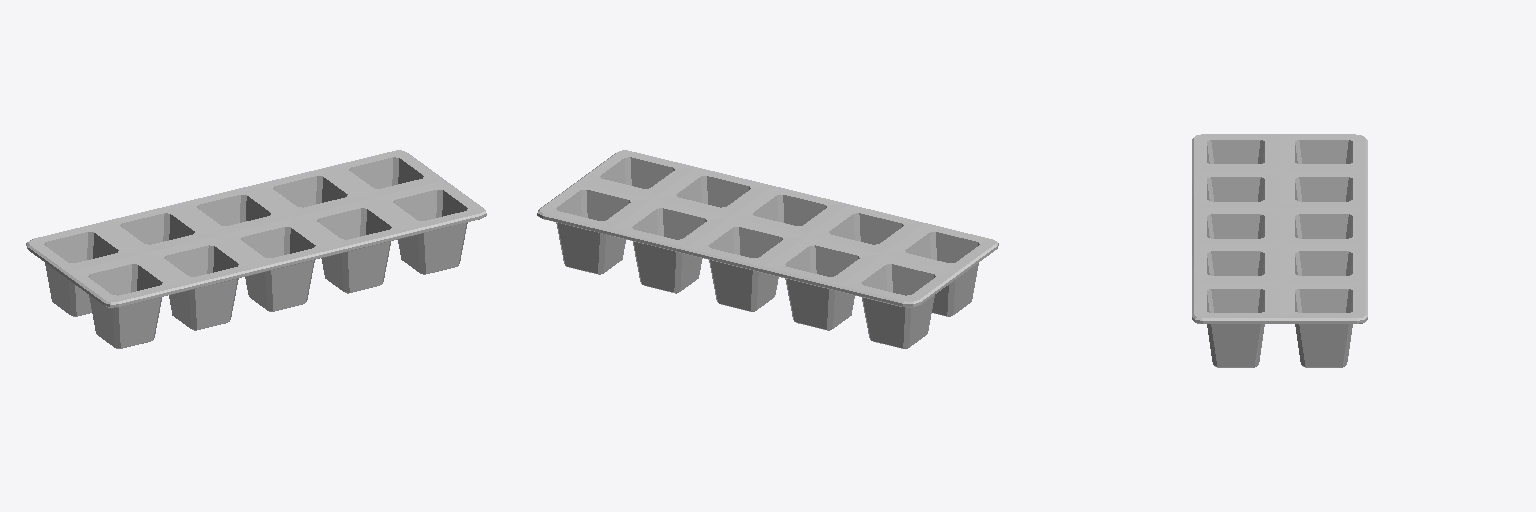
The model's file is misc_ice_tray.obj.
3 renders of one model, left to right at view 1: azimuth 30°, elevation 25°; view 2: azimuth 150°, elevation 25°; view 3: azimuth 270°, elevation 25°, orthographic.
Visible parts, largest first — view 1: misc_ice_tray_Cube.019; view 2: misc_ice_tray_Cube.019; view 3: misc_ice_tray_Cube.019.
Boxes of the visible parts, x1,y1,x2,y2 form: misc_ice_tray_Cube.019: [26, 150, 486, 348]; misc_ice_tray_Cube.019: [537, 150, 998, 348]; misc_ice_tray_Cube.019: [1192, 134, 1367, 367].
Size of the model in its own units: 5 by 0.7432 by 2.